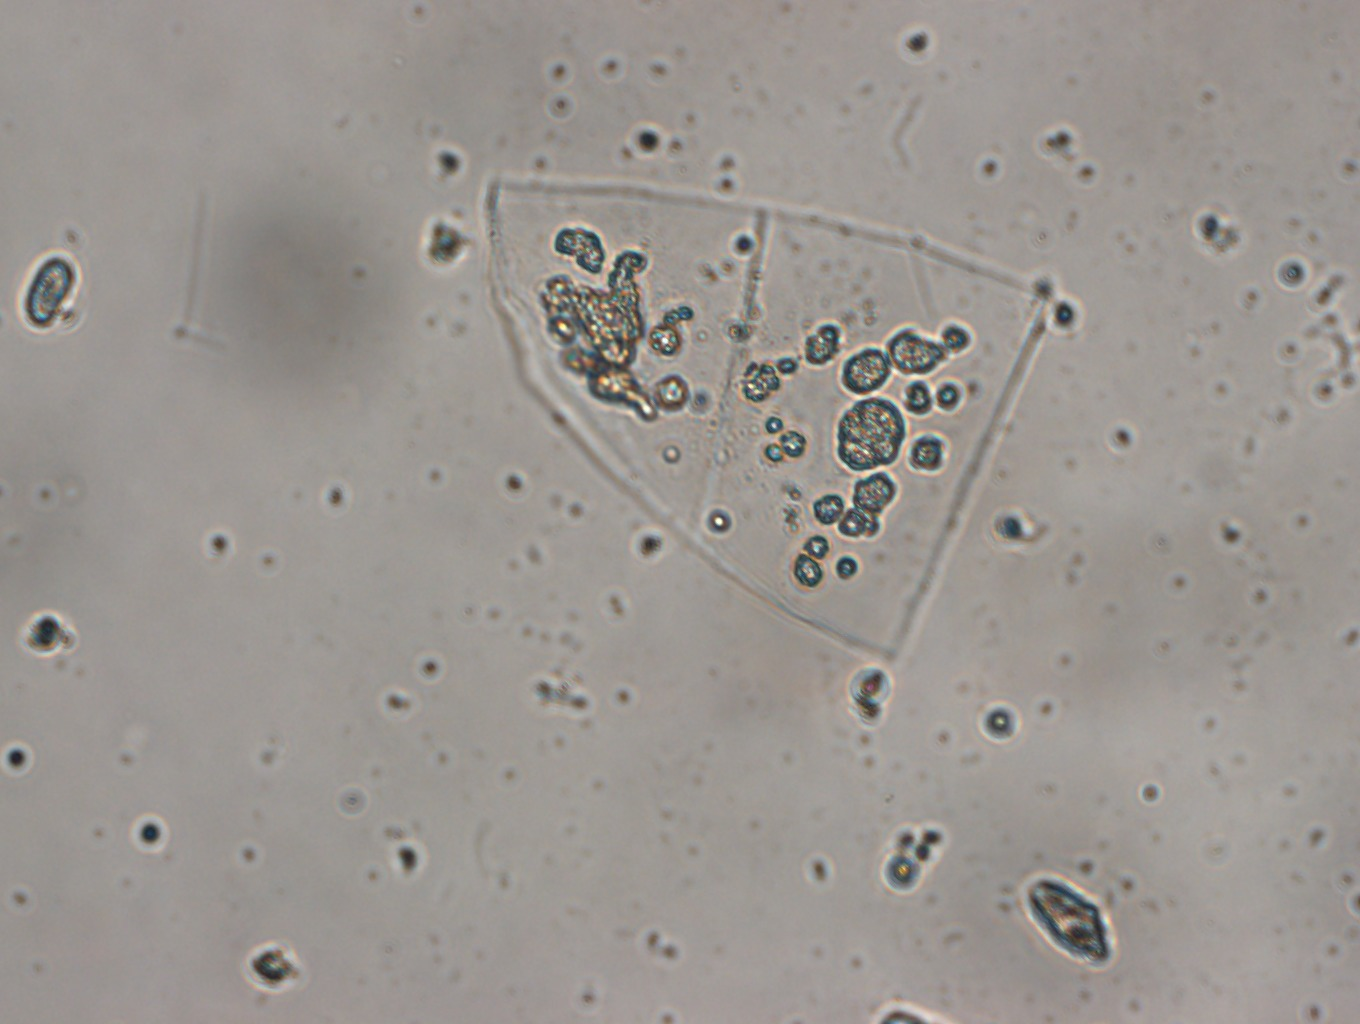helicotheca: (481, 172, 1058, 664)
